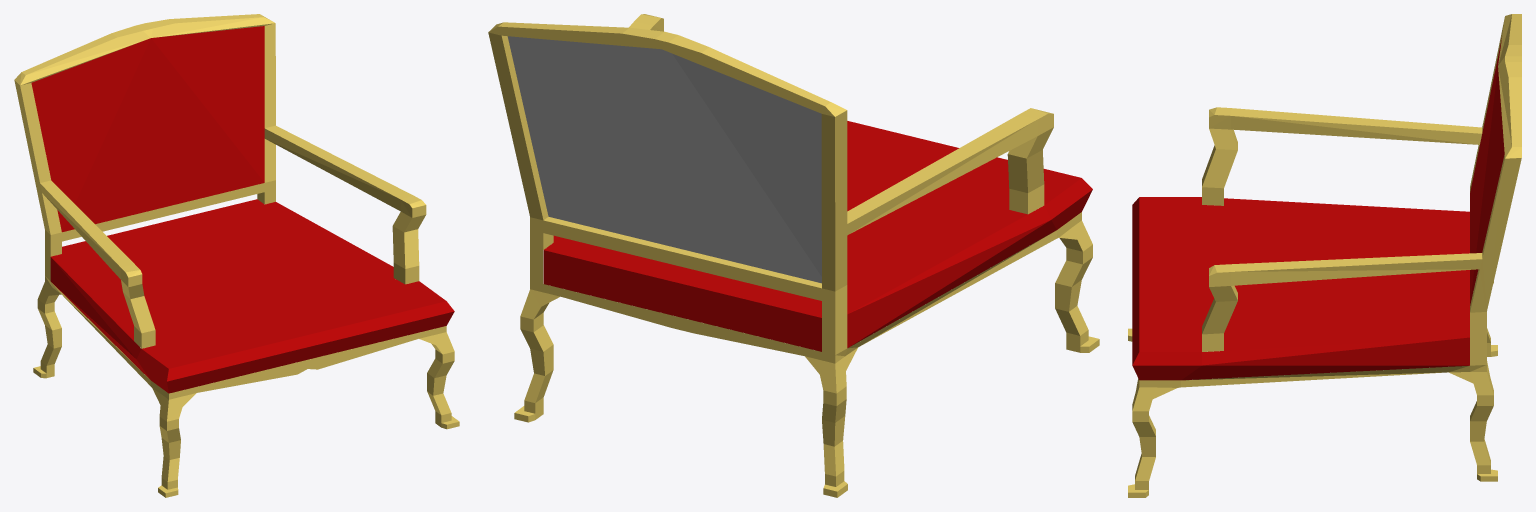
The model's file is sh-contrib-chair-granmother.glb.
The picture shows the model from 3 angles, left to right: view 1: azimuth 30°, elevation 25°; view 2: azimuth 150°, elevation 25°; view 3: azimuth 270°, elevation 25°; orthographic projection. The views are drawn at different scales.
Visible parts, largest first — view 1: 2_2_2, 1_1_1; view 2: 5_5_5, 1_1_1, 2_2_2; view 3: 2_2_2, 1_1_1.
Boxes of the visible parts, x1,y1,x2,y2 form: 2_2_2: (31,26,454,393); 1_1_1: (14,14,459,497); 5_5_5: (507,36,821,283); 1_1_1: (488,14,1099,497); 2_2_2: (543,121,1092,351); 2_2_2: (1132,38,1504,380); 1_1_1: (1128,14,1521,497).
Size of the model in its own units: 1 by 1 by 1.
